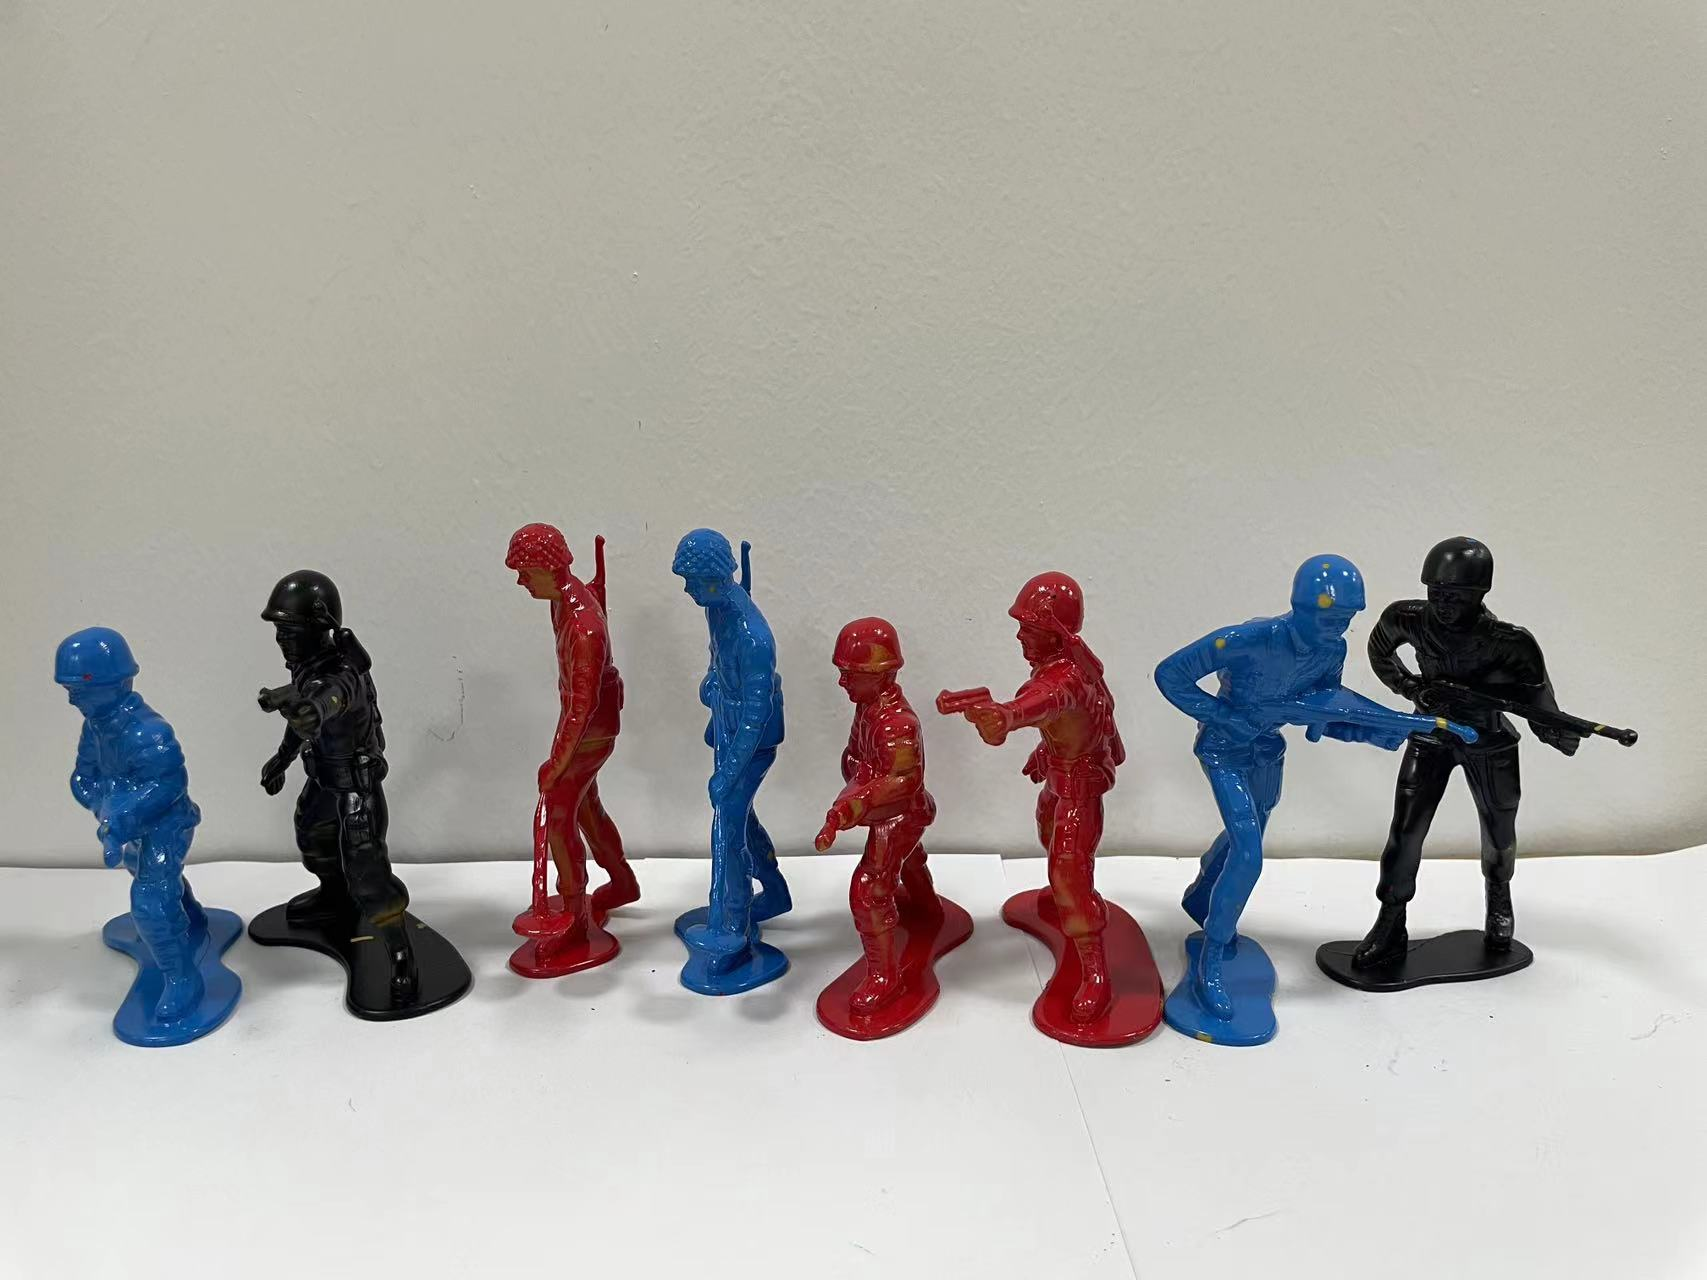black: (1368, 519, 1634, 1002), (250, 541, 481, 1065)
blue: (1157, 520, 1384, 1064), (30, 602, 245, 1089), (661, 489, 808, 1050)
red: (938, 545, 1171, 1055), (481, 487, 659, 999), (796, 609, 964, 1055)
